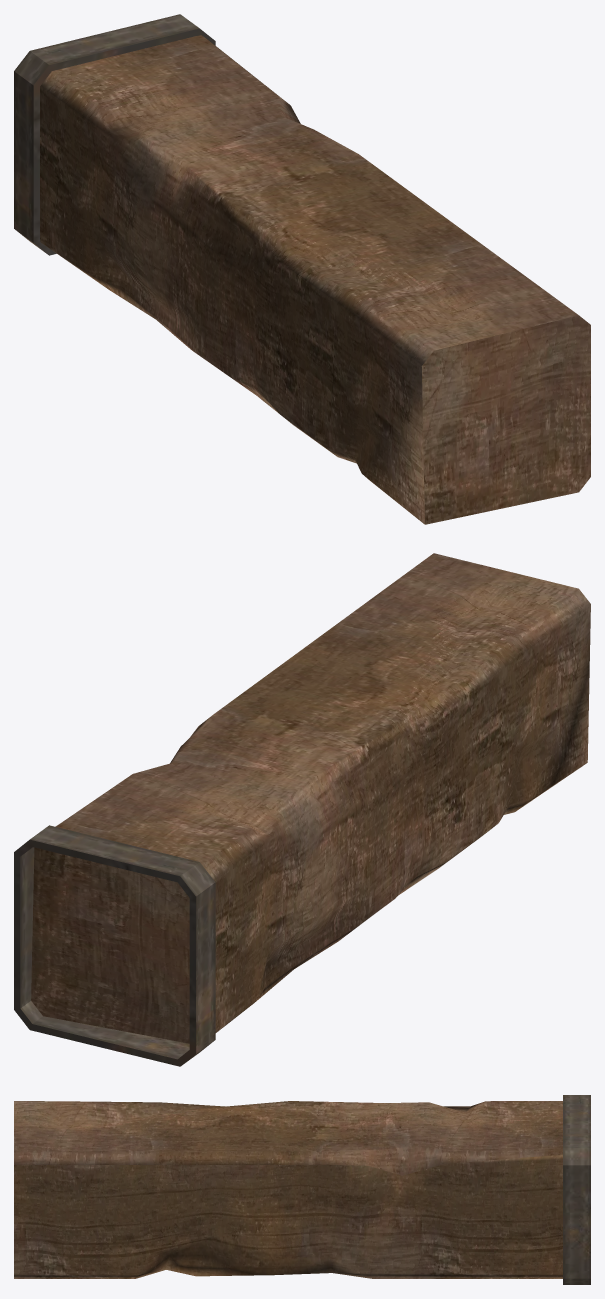
3 views of the same model, one above another, from view 1: azimuth 30°, elevation 25°; view 2: azimuth 150°, elevation 25°; view 3: azimuth 270°, elevation 25° (orthographic). The views are drawn at different scales.
Parts seen in each view (by area): view 1: SM_WoodSupport_4M_LOD0; view 2: SM_WoodSupport_4M_LOD0; view 3: SM_WoodSupport_4M_LOD0.
Part boxes in pixels (x1,y1,x2,y2): SM_WoodSupport_4M_LOD0: [14, 14, 590, 524]; SM_WoodSupport_4M_LOD0: [14, 553, 590, 1066]; SM_WoodSupport_4M_LOD0: [14, 1095, 590, 1284].
Bounding box in the file's own units: 1.08 × 1.08 × 4.11.
2 materials, 2 textured.
